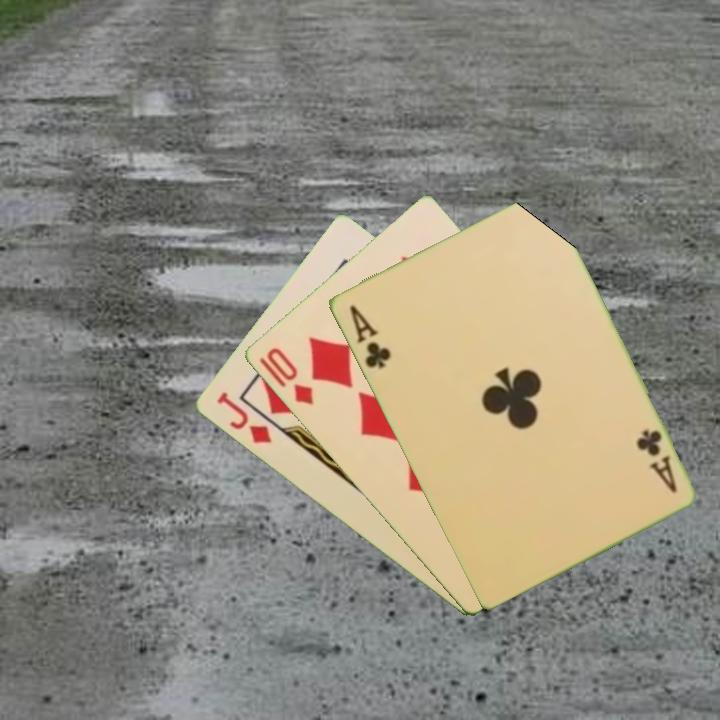10d: (255, 343, 316, 409)
Ac: (345, 301, 394, 372), (632, 426, 680, 496)
Jd: (212, 388, 274, 447)
